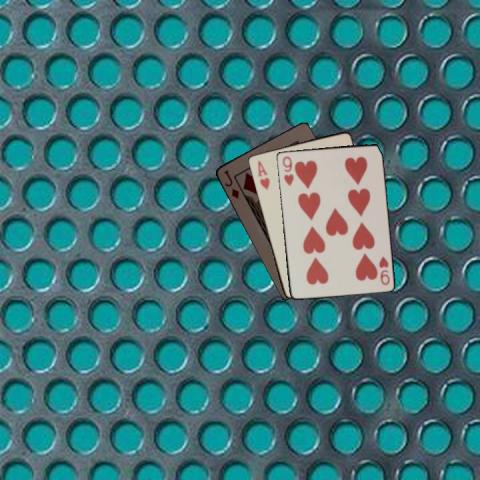9h: (279, 153, 295, 187), (375, 253, 391, 286)
Ah: (254, 157, 270, 191)
Jd: (221, 167, 240, 200)
